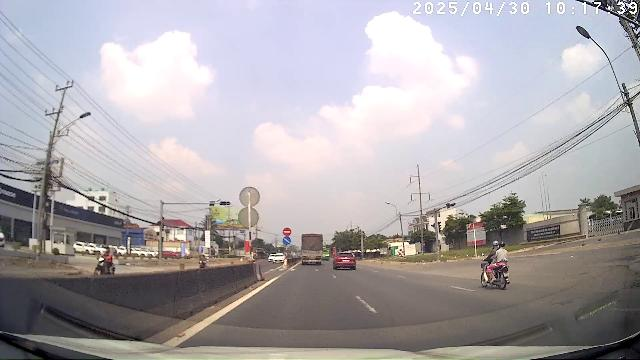102-cam-di-nguoc-chieu: (283, 227, 290, 235)
302a-huong-phai-di-vong-chuong-ngai-vat-1: (283, 236, 291, 245)
